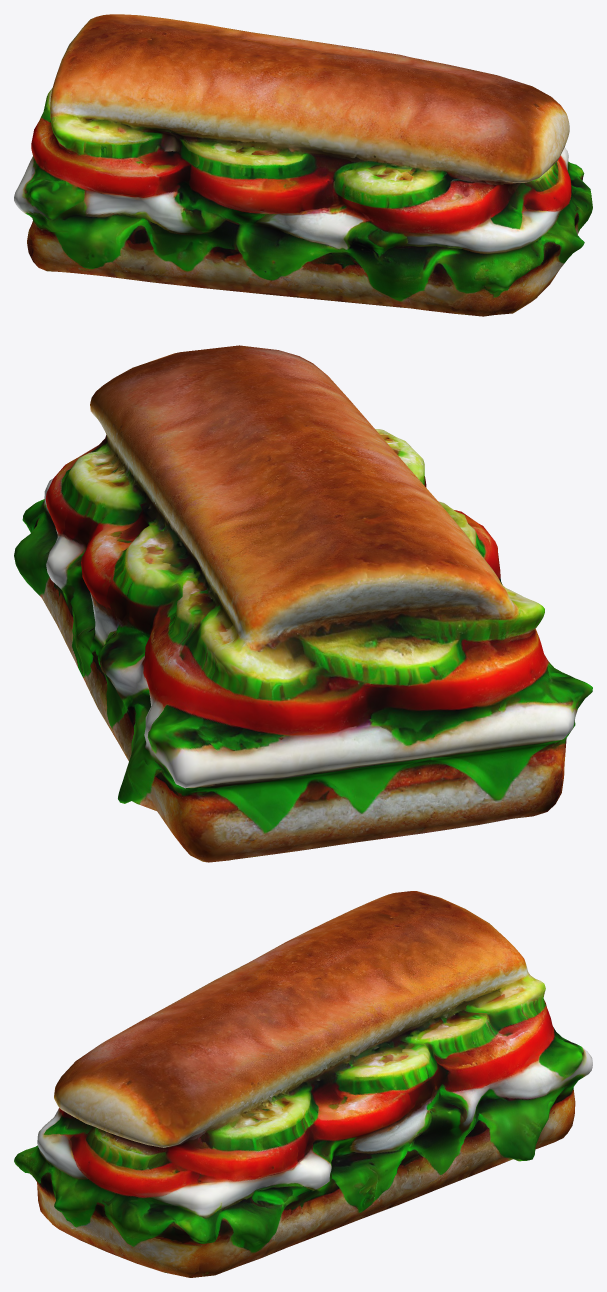
Rendered from Henry.gltf.
The picture shows the model from 3 angles, top to bottom: view 1: azimuth 30°, elevation 25°; view 2: azimuth 150°, elevation 25°; view 3: azimuth 270°, elevation 25°; orthographic projection. The views are drawn at different scales.
Visible parts, largest first — view 1: Sandwich; view 2: Sandwich; view 3: Sandwich.
Part boxes in pixels (x1=…): Sandwich: x1=14, y1=14, x2=592, y2=316; Sandwich: x1=14, y1=345, x2=592, y2=862; Sandwich: x1=14, y1=891, x2=592, y2=1277.
Bounding box in the file's own units: 9.74 × 3.93 × 9.87.
1 material, 1 textured.
